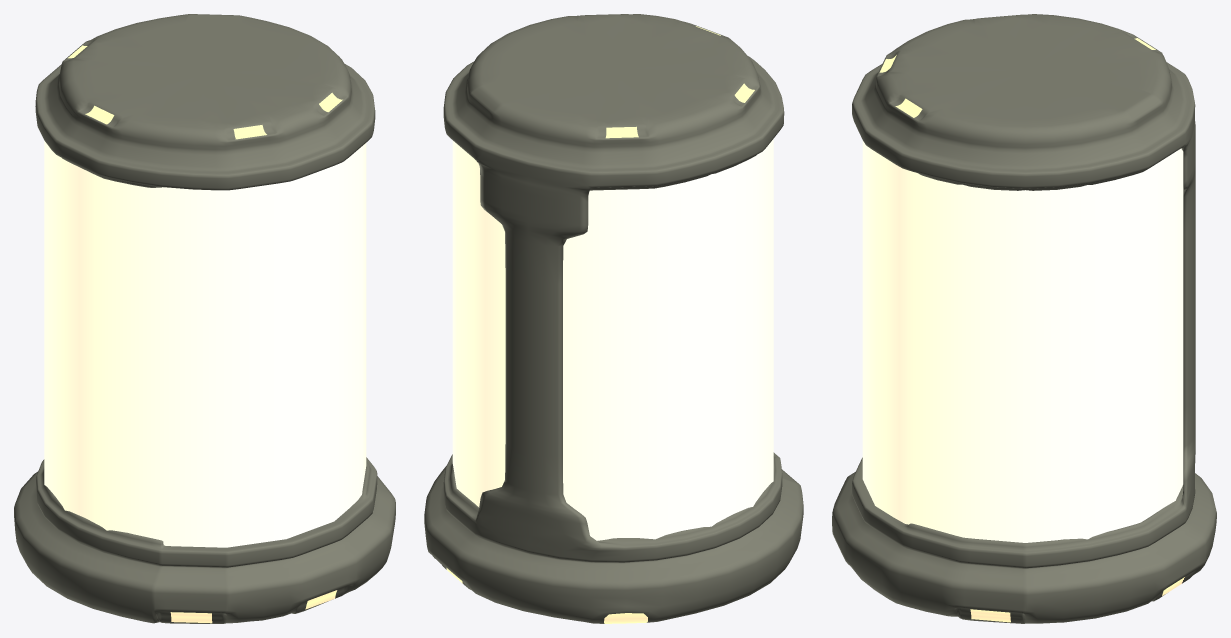
The model's file is JailCell.fbx.
3 renders of one model, left to right at view 1: azimuth 30°, elevation 25°; view 2: azimuth 150°, elevation 25°; view 3: azimuth 270°, elevation 25°, orthographic.
Parts seen in each view (by area): view 1: JailField, JailBase; view 2: JailBase, JailField; view 3: JailField, JailBase.
Boxes of the visible parts, x1,y1,x2,y2 form: JailField: (44,141,366,547); JailBase: (14,14,395,623); JailBase: (424,14,803,623); JailField: (452,139,773,540); JailField: (862,140,1183,542); JailBase: (832,14,1216,623).
Bounding box in the file's own units: 221 × 304 × 220.
Materials: 1 (1 with a texture image).
